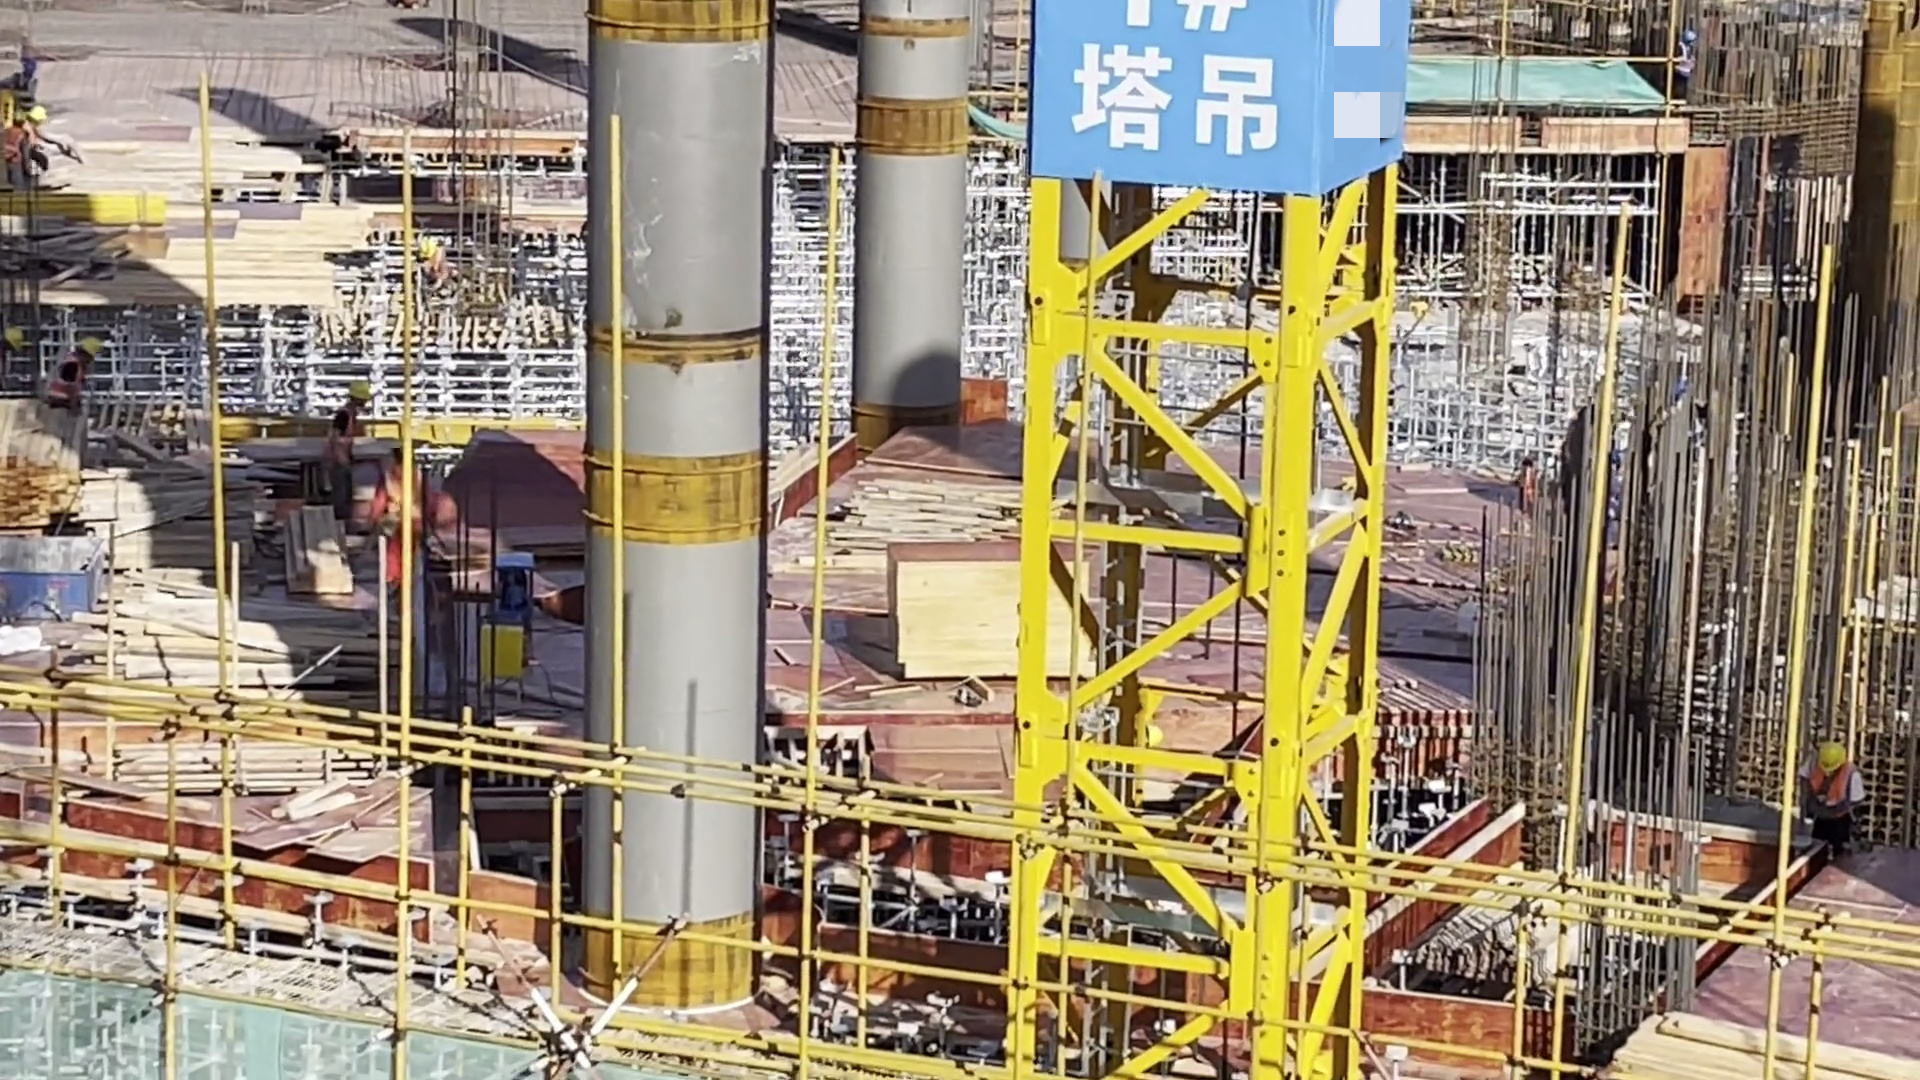helmet: (1810, 737, 1852, 776), (71, 335, 100, 364), (347, 380, 369, 408), (28, 104, 52, 124), (1684, 26, 1700, 47), (21, 60, 36, 72)
person: (368, 429, 430, 613), (1797, 733, 1869, 873), (316, 364, 376, 515), (45, 330, 102, 424), (12, 93, 70, 183), (1655, 26, 1705, 115), (8, 52, 50, 112), (1, 111, 29, 178)
vest: (1803, 764, 1873, 828), (322, 407, 358, 481), (44, 352, 87, 410), (4, 128, 31, 173), (1674, 42, 1699, 84)
